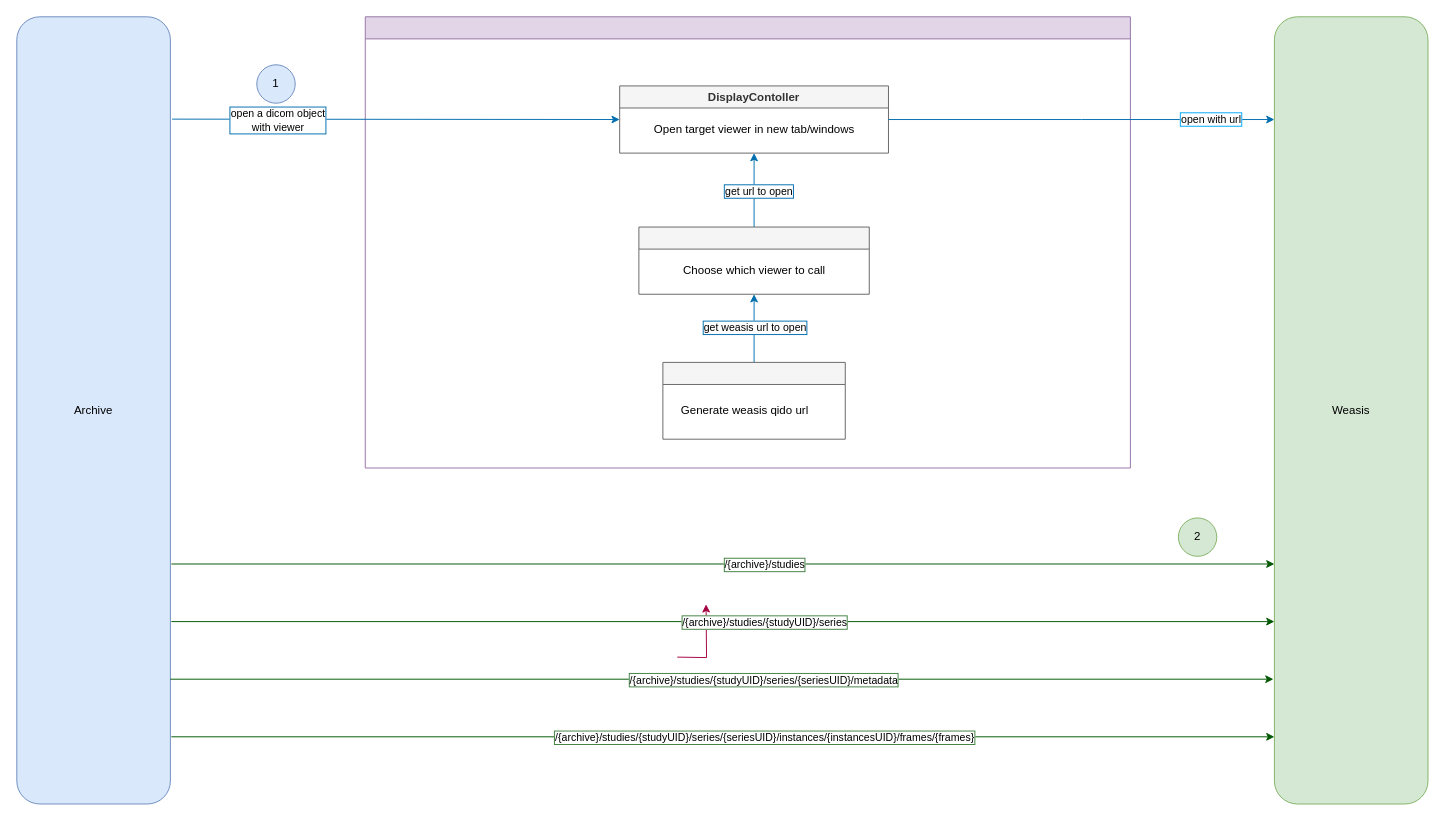
The diagram is 1445 pixels wide and 821 high, and some of its shapes have lost their labels. Here are the shapes that lost their labels. From the top down, the box of each, then its label:
(364, 16, 1130, 468): viewer-hub
(638, 226, 869, 294): DisplaySelectViewerRuleService
(662, 361, 845, 439): WeasisDisplayService
